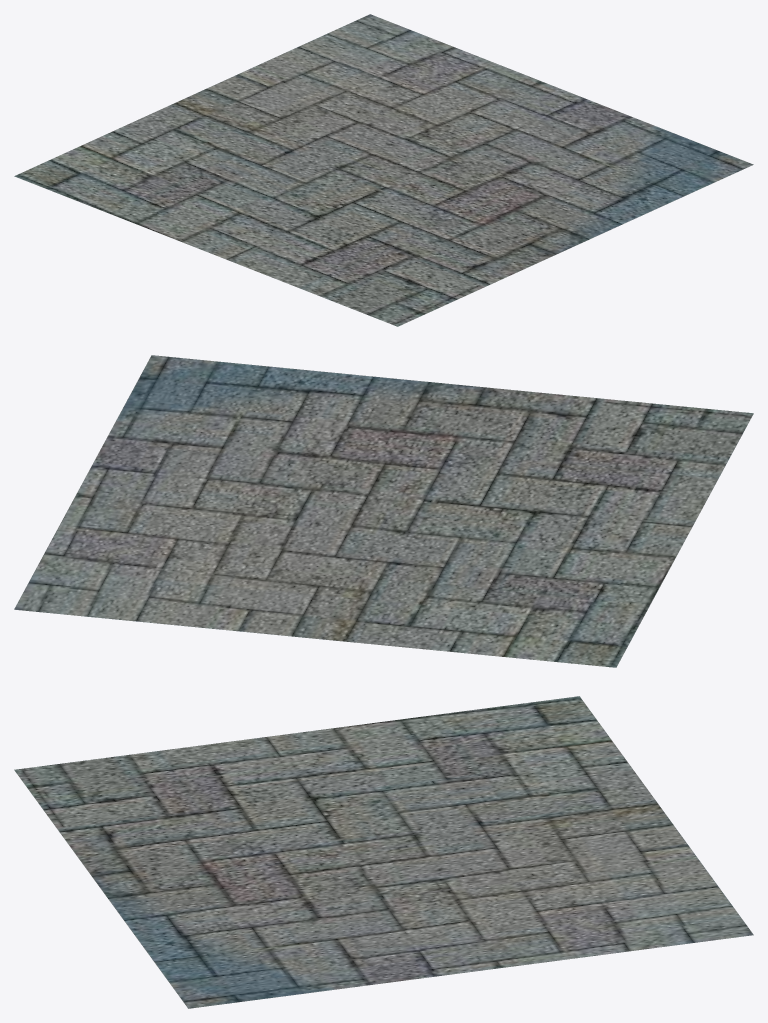
File: Ground.glb
The picture shows the model from 3 angles, top to bottom: view 1: azimuth 30°, elevation 25°; view 2: azimuth 150°, elevation 25°; view 3: azimuth 270°, elevation 25°; orthographic projection. The views are drawn at different scales.
Parts seen in each view (by area): view 1: Plane; view 2: Plane; view 3: Plane.
Part boxes in pixels (left/top/right/bottom): Plane: left=14, top=14, right=753, bottom=326; Plane: left=14, top=355, right=753, bottom=667; Plane: left=14, top=696, right=753, bottom=1008.
Size of the model in its own units: 12.54 by 0 by 12.54.
1 material, 1 textured.
